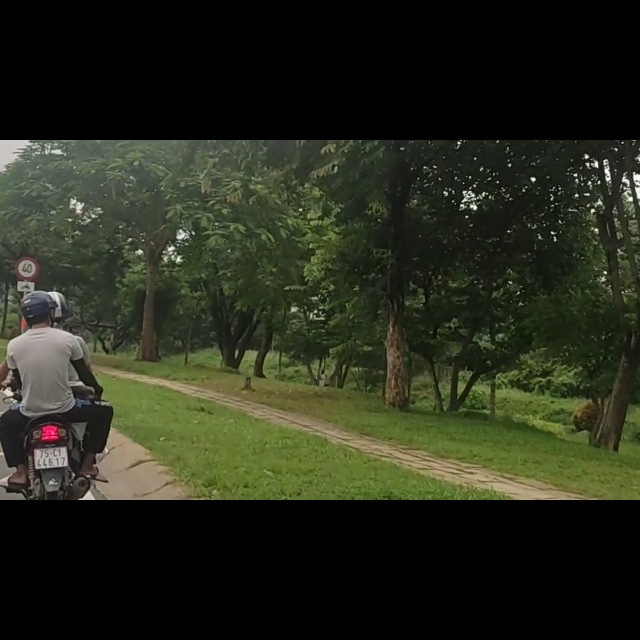Tốc độ tối đa cho phép 40km/h: (15, 256, 39, 281)
